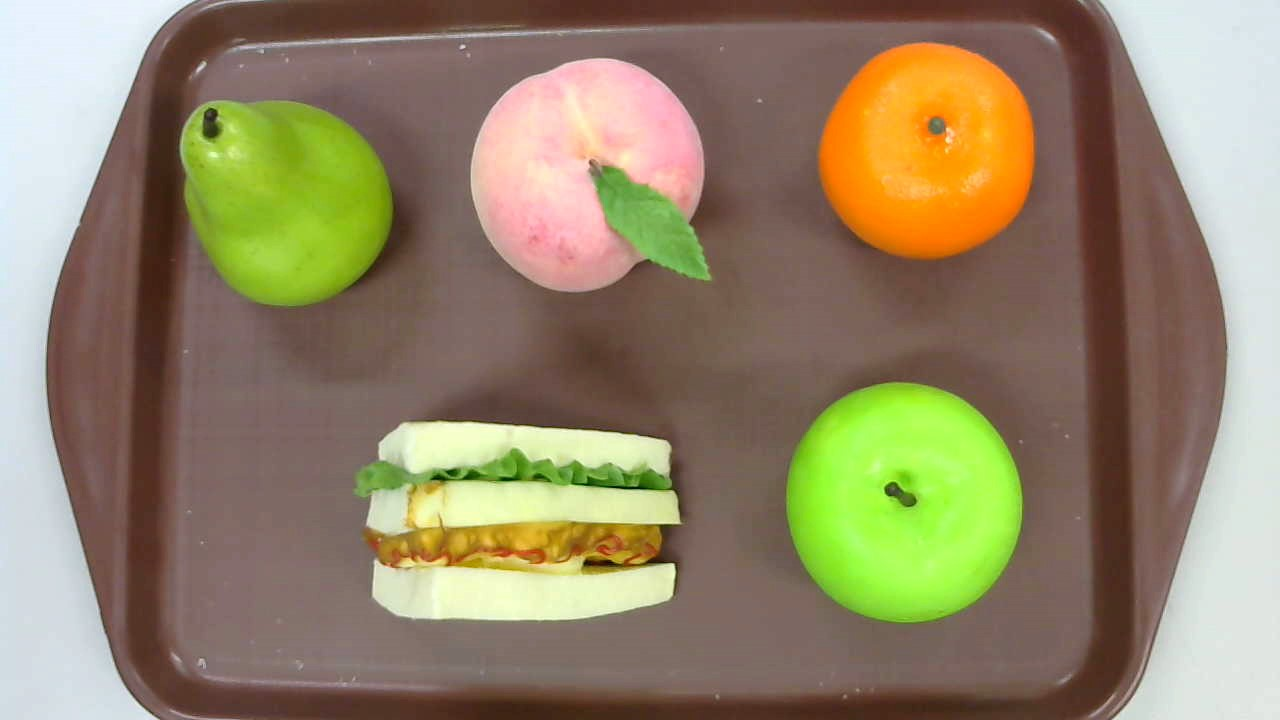green apple: (785, 381, 1022, 623)
green pear: (178, 99, 393, 308)
orange: (817, 42, 1035, 260)
peach: (470, 58, 712, 295)
sandwich: (352, 420, 683, 622)
